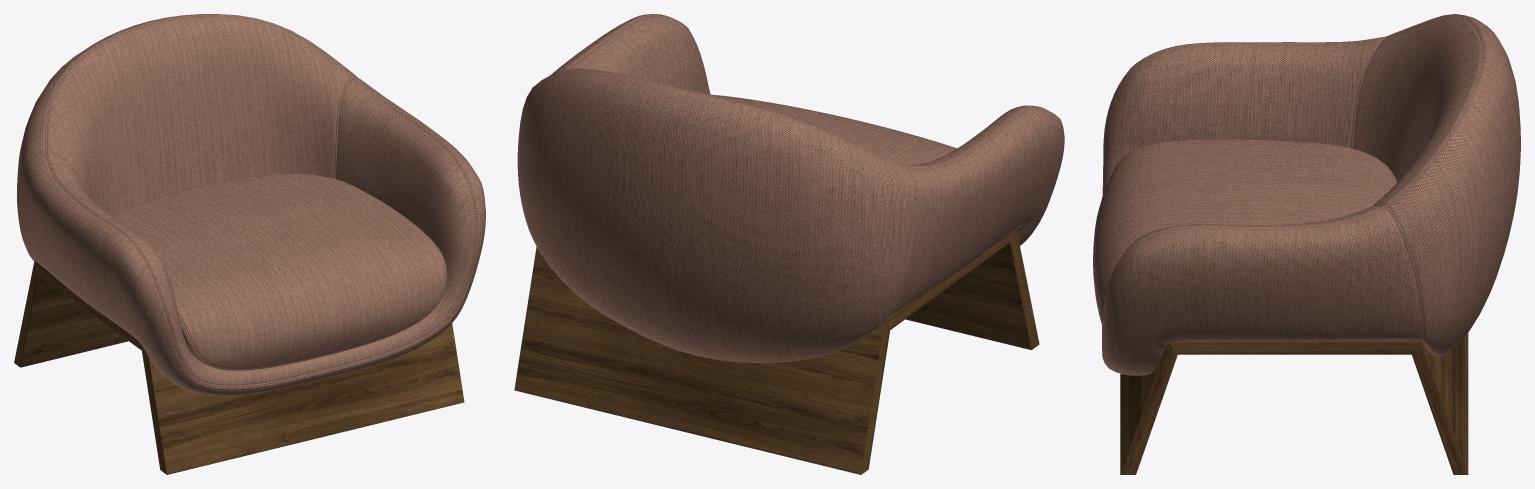
File: Boolean.glb
The picture shows the model from 3 angles, left to right: view 1: azimuth 30°, elevation 25°; view 2: azimuth 150°, elevation 25°; view 3: azimuth 270°, elevation 25°; orthographic projection. The views are drawn at different scales.
Parts seen in each view (by area): view 1: BOOLEAN ARMCHAIR By Bonaldo-016, BOOLEAN ARMCHAIR By Bonaldo-015; view 2: BOOLEAN ARMCHAIR By Bonaldo-016, BOOLEAN ARMCHAIR By Bonaldo-015; view 3: BOOLEAN ARMCHAIR By Bonaldo-016, BOOLEAN ARMCHAIR By Bonaldo-015.
Boxes of the visible parts, x1,y1,x2,y2 form: BOOLEAN ARMCHAIR By Bonaldo-016: (16, 14, 485, 396); BOOLEAN ARMCHAIR By Bonaldo-015: (14, 260, 464, 474); BOOLEAN ARMCHAIR By Bonaldo-016: (517, 14, 1064, 362); BOOLEAN ARMCHAIR By Bonaldo-015: (514, 229, 1039, 474); BOOLEAN ARMCHAIR By Bonaldo-016: (1093, 14, 1520, 375); BOOLEAN ARMCHAIR By Bonaldo-015: (1120, 333, 1468, 474).
Bounding box in the file's own units: 0.9203 × 0.7195 × 0.8181.
2 materials, 2 textured.
